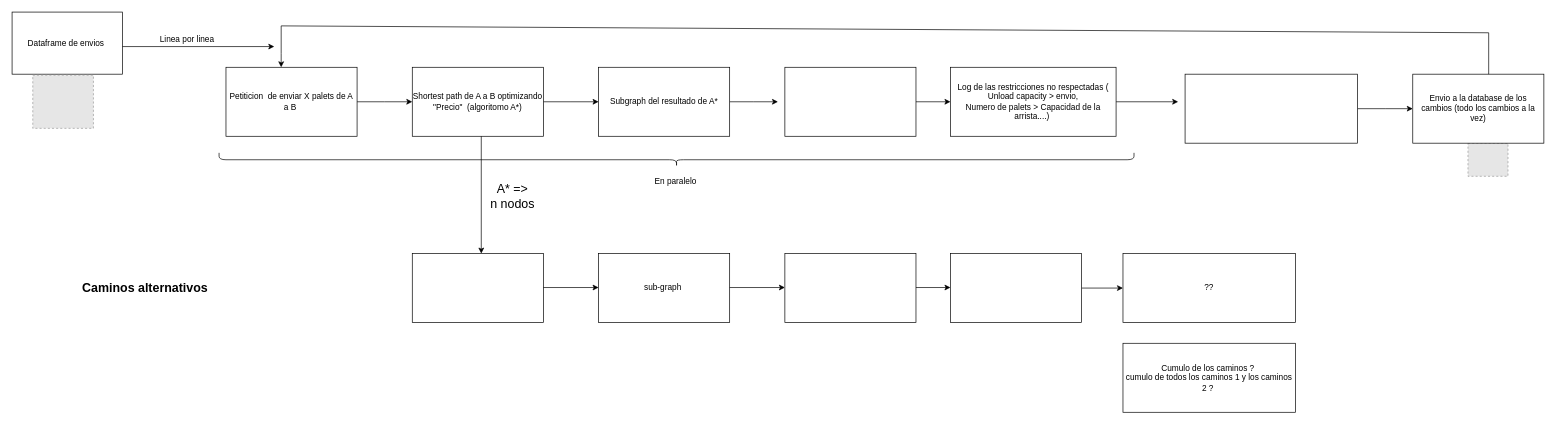
Image size: 1556x424. Some labels were removed from this diagram. Grey dashed boxes stand in for pictures. Here are the shapes that lost their labels. From the top down, the centre of each, then its label:
(850,101): Se hacen los cambios de stock y, daily_movements en local
(1271,108): json intermediario que guarda todo los cambios :
(477,288): "All path" algoritmo, con n+1 nodos
(850,288): algoritmo "all simple path"
(1016,288): Guardamos los 2 caminos alternativos los mas baratos
